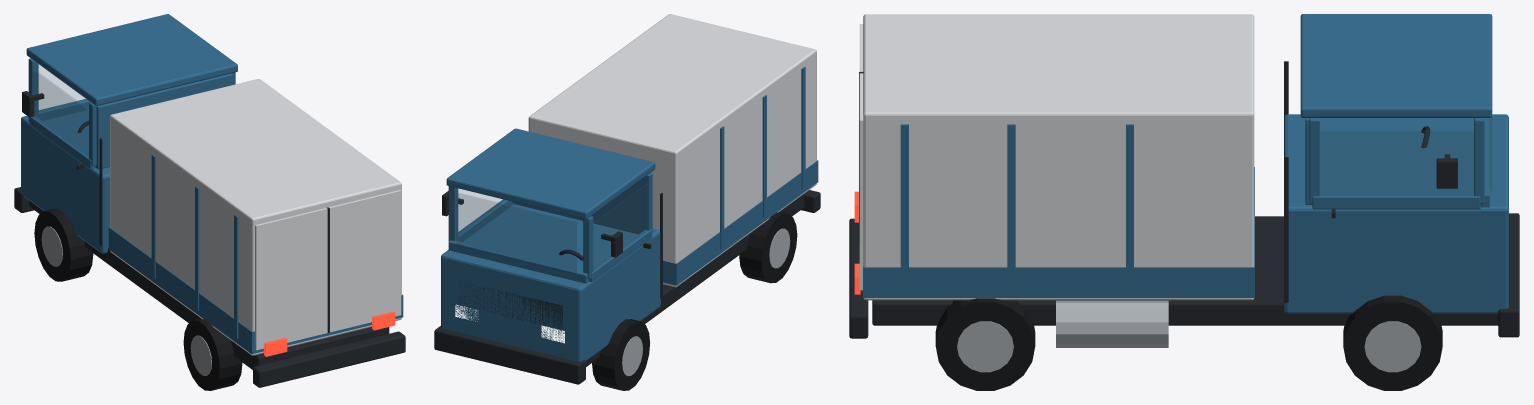
The model's file is truck.glb.
3 views of the same model, side by side, from view 1: azimuth 30°, elevation 25°; view 2: azimuth 150°, elevation 25°; view 3: azimuth 270°, elevation 25° (orthographic). The views are drawn at different scales.
Visible parts, largest first — view 1: CargoBox, CabRoof, RearDoor_L, RearDoor_R, CabLower, CargoStripe, RearBumper, Chassis, Wheel_RL, Wheel_FL, SideWindow_L, CabRearWall (+12 smaller); view 2: CargoBox, CabLower, CabRoof, Windshield, Bumper, CargoStripe, Wheel_RL, Wheel_FL, SideWindow_L, CabRearWall, Chassis, CabFrontSill (+11 smaller); view 3: CargoBox, CabLower, CabRoof, CargoStripe, Chassis, SideWindow_R, Wheel_RR, Wheel_FR, FuelTank, CabSideSill.001, Bumper, RearBumper (+8 smaller).
Part boxes in pixels (bbox=[...]): CargoBox: bbox=[110, 79, 401, 355]; CabRoof: bbox=[26, 14, 237, 105]; RearDoor_L: bbox=[255, 208, 327, 350]; RearDoor_R: bbox=[329, 190, 401, 332]; CabLower: bbox=[21, 110, 109, 253]; CargoStripe: bbox=[108, 227, 403, 353]; RearBumper: bbox=[253, 331, 405, 387]; Chassis: bbox=[29, 201, 389, 369]; Wheel_RL: bbox=[183, 318, 242, 390]; Wheel_FL: bbox=[34, 209, 93, 281]; SideWindow_L: bbox=[33, 70, 88, 156]; CabRearWall: bbox=[95, 73, 232, 169]; CargoBox: bbox=[528, 14, 816, 287]; CabLower: bbox=[441, 204, 660, 361]; CabRoof: bbox=[446, 128, 655, 219]; Windshield: bbox=[457, 193, 576, 274]; Bumper: bbox=[434, 326, 585, 384]; CargoStripe: bbox=[663, 160, 818, 285]; Wheel_RL: bbox=[739, 211, 797, 283]; Wheel_FL: bbox=[592, 319, 649, 390]; SideWindow_L: bbox=[594, 184, 647, 269]; CabRearWall: bbox=[514, 178, 642, 234]; Chassis: bbox=[586, 194, 804, 366]; CabFrontSill: bbox=[448, 240, 588, 283]; CargoBox: bbox=[863, 14, 1254, 300]; CabLower: bbox=[1284, 114, 1508, 313]; CabRoof: bbox=[1300, 14, 1492, 117]; CargoStripe: bbox=[863, 167, 1254, 297]; Chassis: bbox=[872, 216, 1498, 325]; SideWindow_R: bbox=[1320, 131, 1473, 195]; Wheel_RR: bbox=[935, 298, 1035, 390]; Wheel_FR: bbox=[1343, 295, 1442, 390]; FuelTank: bbox=[1056, 300, 1168, 347]; CabSideSill.001: bbox=[1312, 194, 1480, 209]; Bumper: bbox=[1498, 213, 1519, 337]; RearBumper: bbox=[849, 218, 868, 338].
Size of the model in its own units: 2.36 by 2.57 by 5.66.
